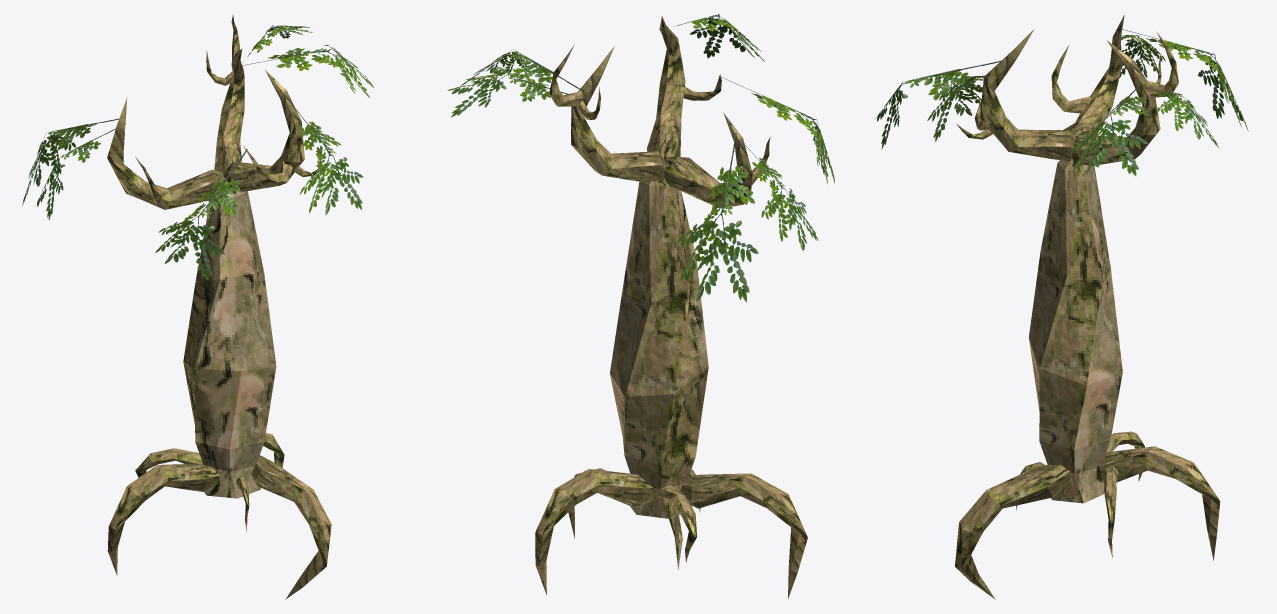
Rendered from Tree_D1.fbx.
3 views of the same model, side by side, from view 1: azimuth 30°, elevation 25°; view 2: azimuth 150°, elevation 25°; view 3: azimuth 270°, elevation 25° (orthographic). The views are drawn at different scales.
Visible parts, largest first — view 1: Tree_D1; view 2: Tree_D1; view 3: Tree_D1.
Part boxes in pixels (x1,y1,x2,y2): Tree_D1: (22,14,373,599); Tree_D1: (447,14,834,598); Tree_D1: (875,15,1248,599).
Size of the model in its own units: 3.56 by 5.27 by 3.26.
